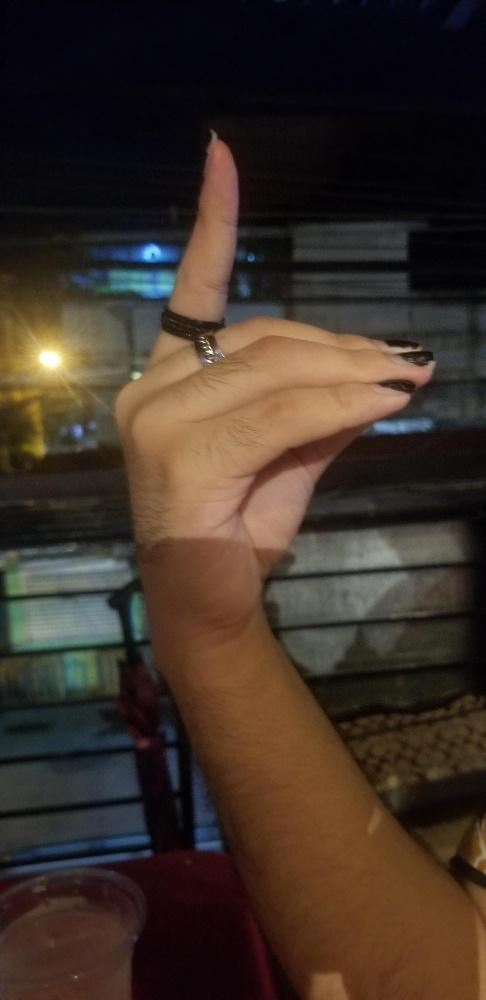d: (108, 131, 432, 647)
